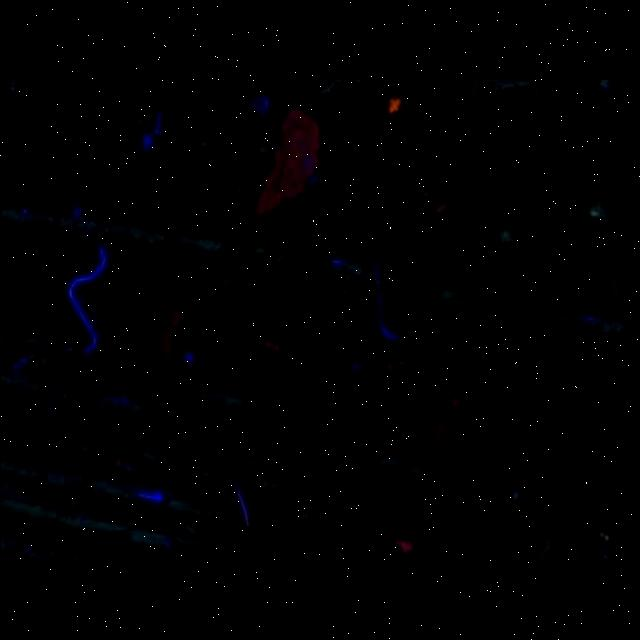Fragment: (256, 110, 322, 218)
